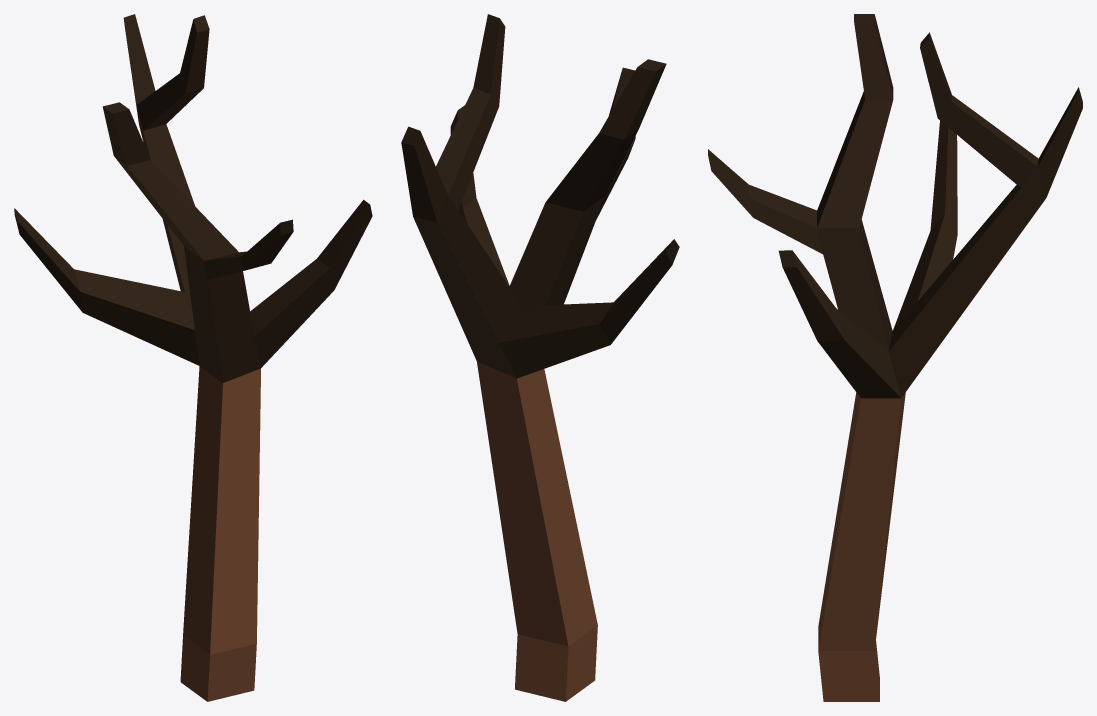
File: T_burnttree3.fbx
The picture shows the model from 3 angles, left to right: view 1: azimuth 30°, elevation 25°; view 2: azimuth 150°, elevation 25°; view 3: azimuth 270°, elevation 25°; orthographic projection. The views are drawn at different scales.
Visible parts, largest first — view 1: Cube; view 2: Cube; view 3: Cube.
Part boxes in pixels (x1,y1,x2,y2): Cube: (14, 14, 372, 701); Cube: (401, 14, 679, 701); Cube: (708, 14, 1082, 701).
Size of the model in its own units: 230 by 503 by 257.
